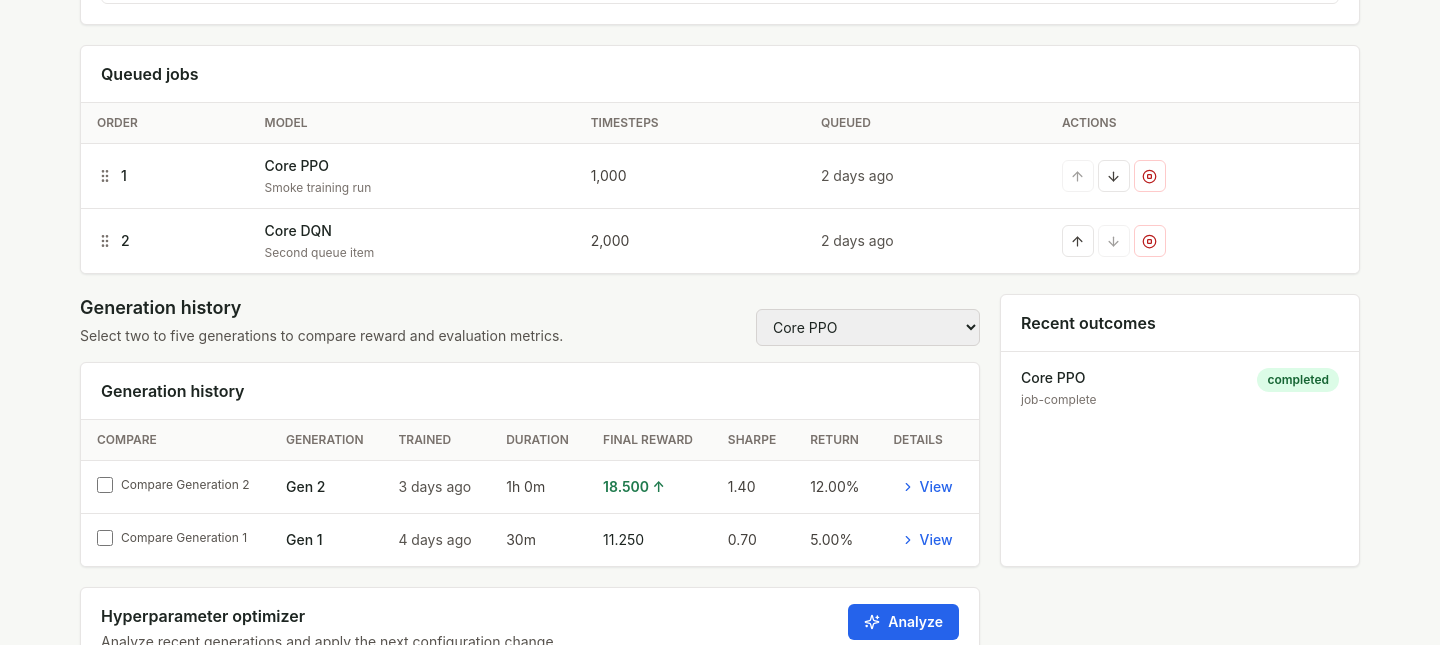
Test case: Training › loads generation history and compares selected generations
The width and height of the screenshot is (1440, 645).
(page scrolled)
Click the checkbox labelled "Compare Generation 2".
click(105, 484)  # box left=97, top=476, right=113, bottom=492
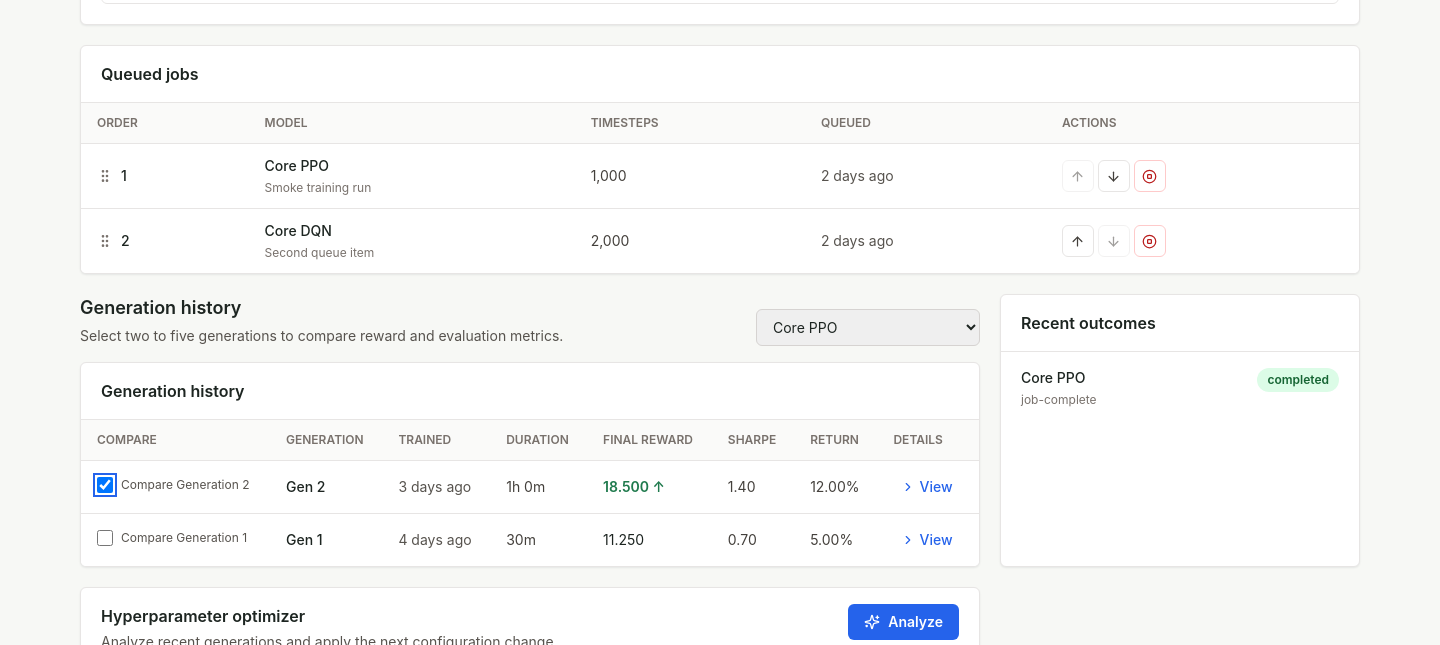
Click the checkbox labelled "Compare Generation 1".
click(105, 538)  # box left=97, top=530, right=113, bottom=546
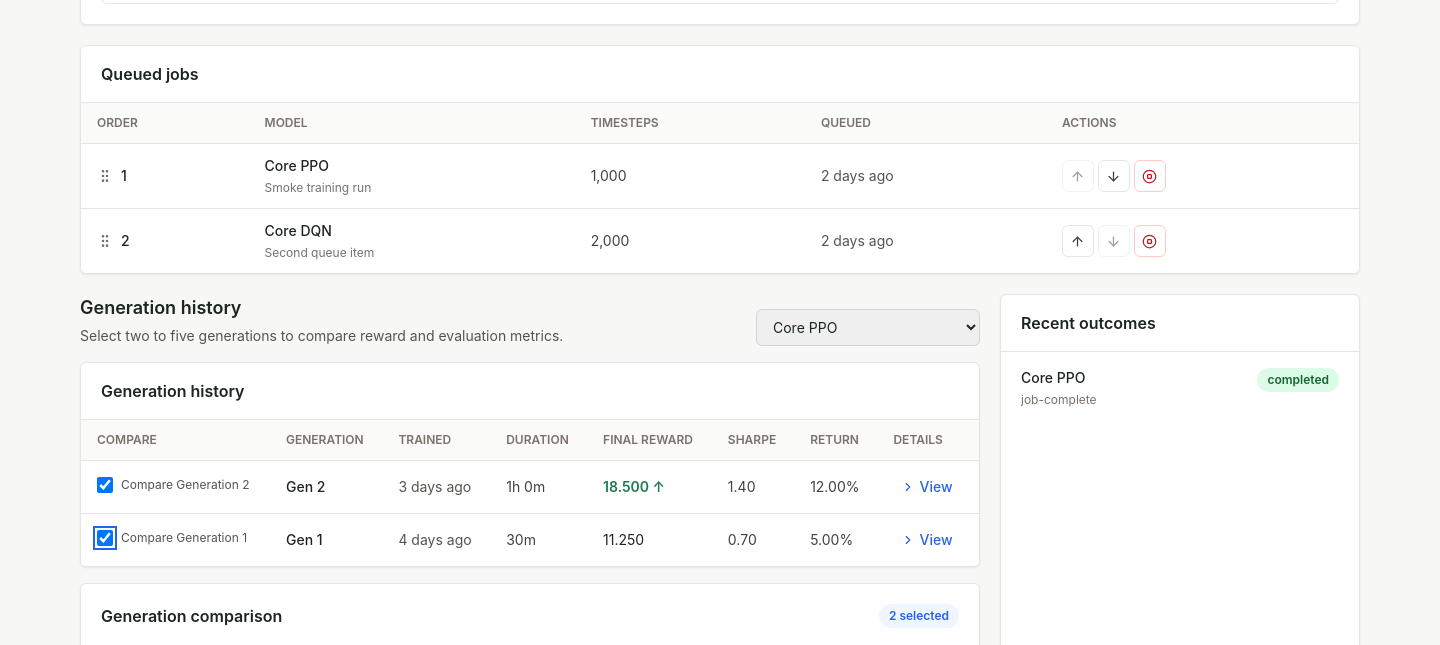
Now the heading "Generation comparison" is shown, box left=101, top=604, right=282, bottom=628
